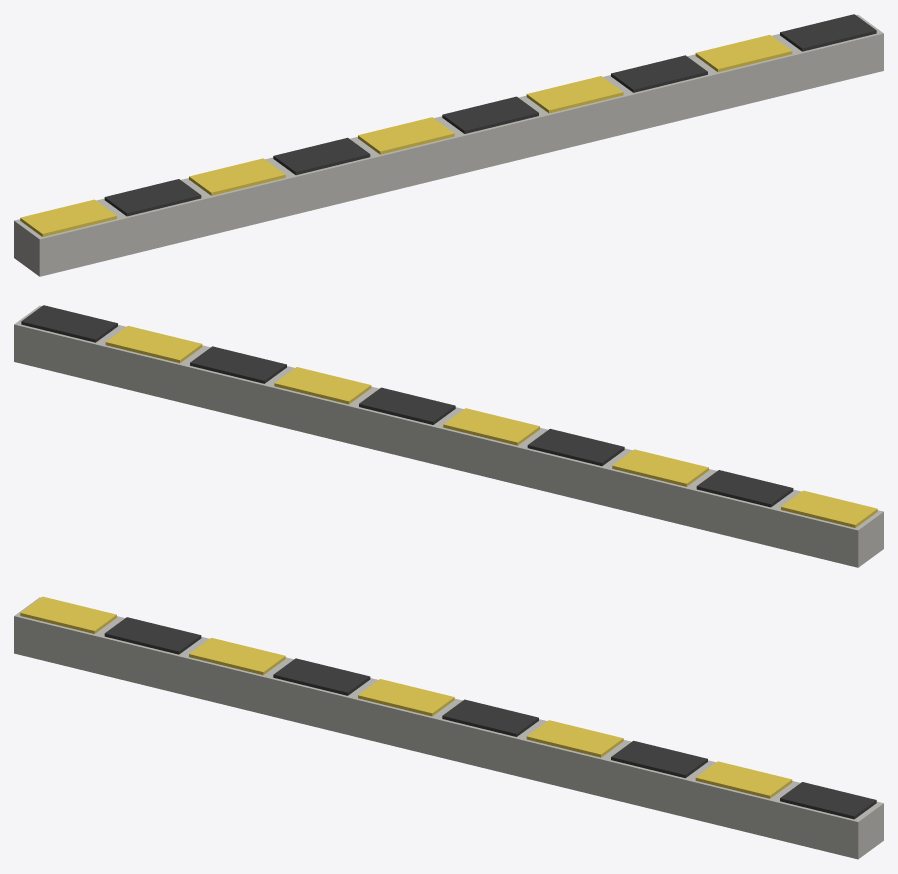
The model's file is dm_trackmarker.glb.
3 views of the same model, one above another, from view 1: azimuth 30°, elevation 25°; view 2: azimuth 150°, elevation 25°; view 3: azimuth 330°, elevation 25° (orthographic).
Parts seen in each view (by area): view 1: dm_trackmarker; view 2: dm_trackmarker; view 3: dm_trackmarker.
Boxes of the visible parts, x1,y1,x2,y2 form: dm_trackmarker: (14, 14, 883, 276); dm_trackmarker: (14, 305, 883, 567); dm_trackmarker: (14, 596, 883, 859).
Size of the model in its own units: 5.67 by 0.26 by 0.3.
